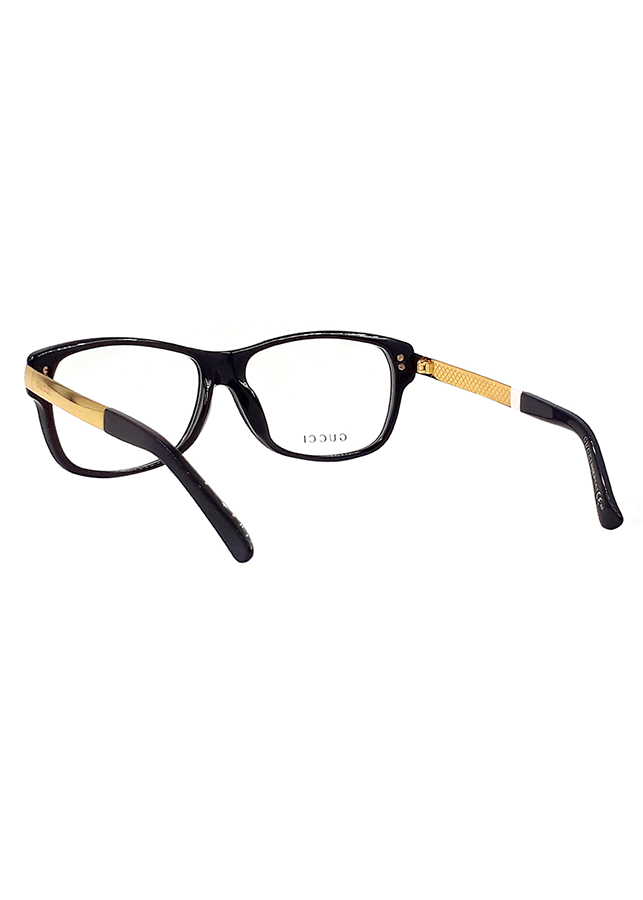Gucci: (291, 425, 351, 447)
